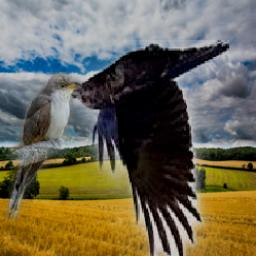Crow: (67, 40, 230, 256)
Cuckoo: (6, 73, 83, 221)
